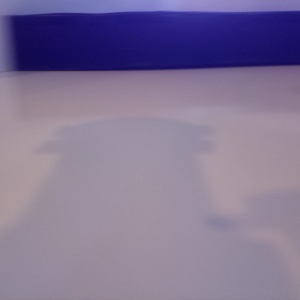zone: (46, 13, 300, 69)
